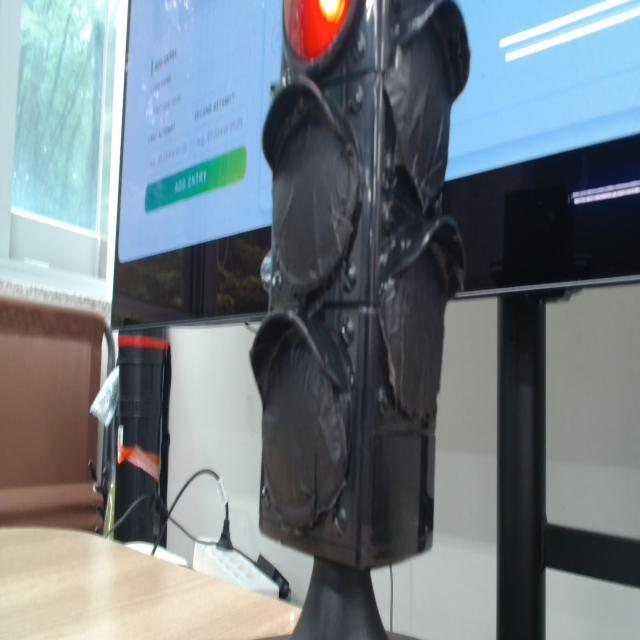red_light: (284, 0, 350, 62)
